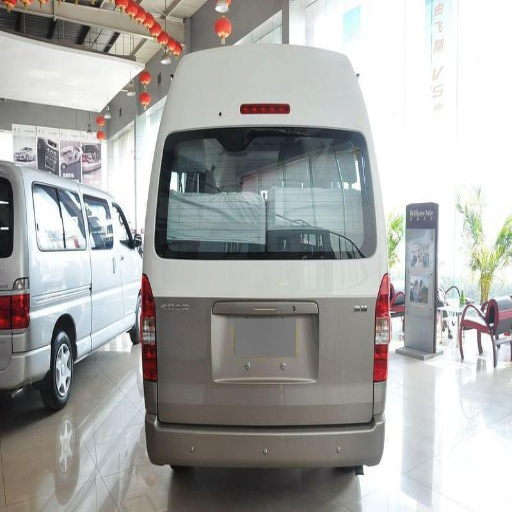back_bumper: (146, 381, 388, 462)
back_left_light: (135, 274, 155, 382)
trunk: (159, 261, 378, 420), (24, 255, 85, 349)
